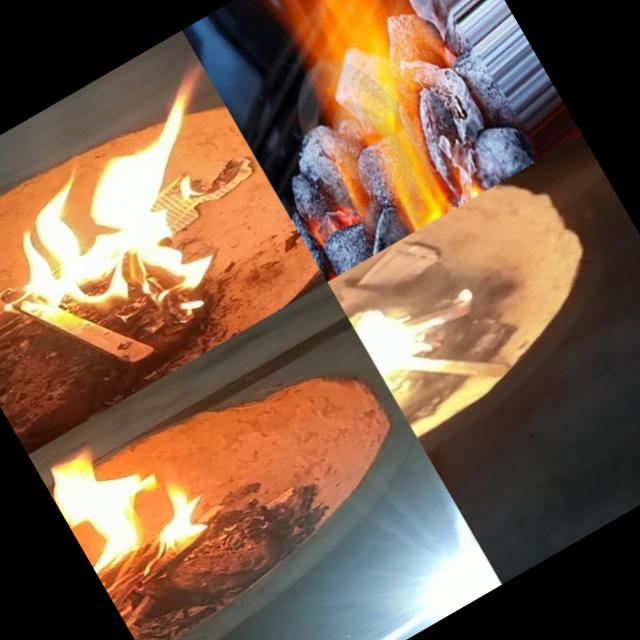fire: (0, 39, 300, 407), (232, 0, 512, 251), (38, 404, 250, 639), (349, 268, 482, 396)
